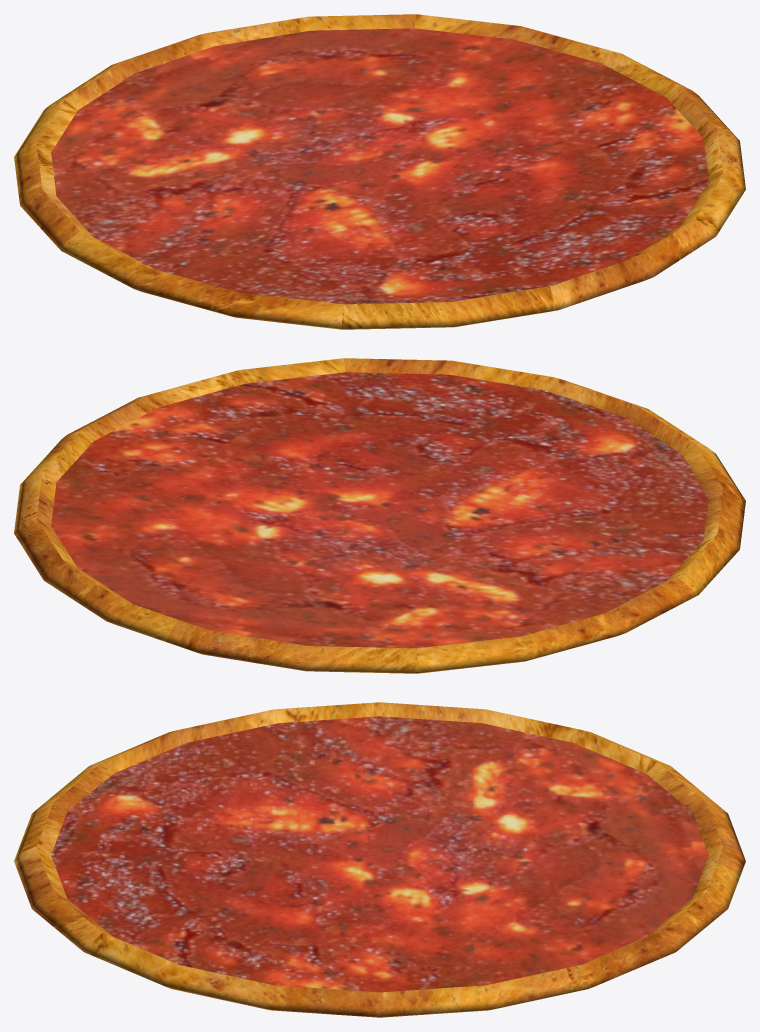
File: Pizza.fbx
3 views of the same model, one above another, from view 1: azimuth 30°, elevation 25°; view 2: azimuth 150°, elevation 25°; view 3: azimuth 270°, elevation 25° (orthographic).
Visible parts, largest first — view 1: pCylinder1; view 2: pCylinder1; view 3: pCylinder1.
Boxes of the visible parts, x1,y1,x2,y2 form: pCylinder1: [14, 14, 745, 329]; pCylinder1: [14, 358, 745, 673]; pCylinder1: [14, 702, 745, 1017].
Size of the model in its own units: 6.16 by 0.1936 by 6.16.
